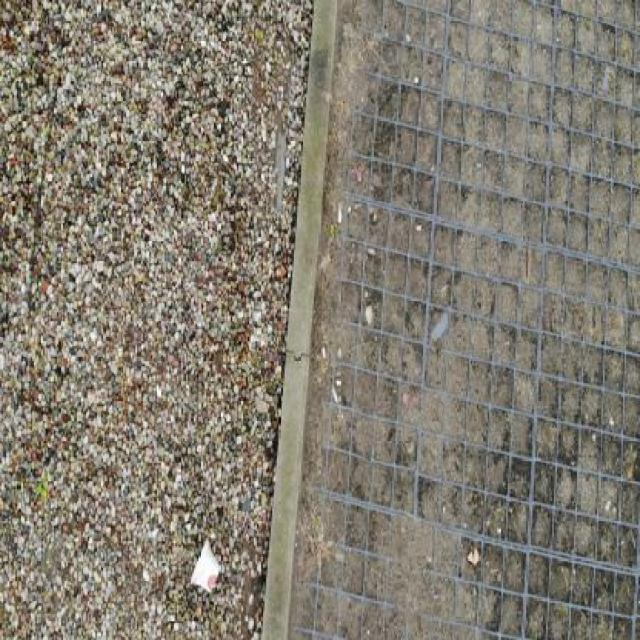Garbage: (190, 540, 220, 593)
